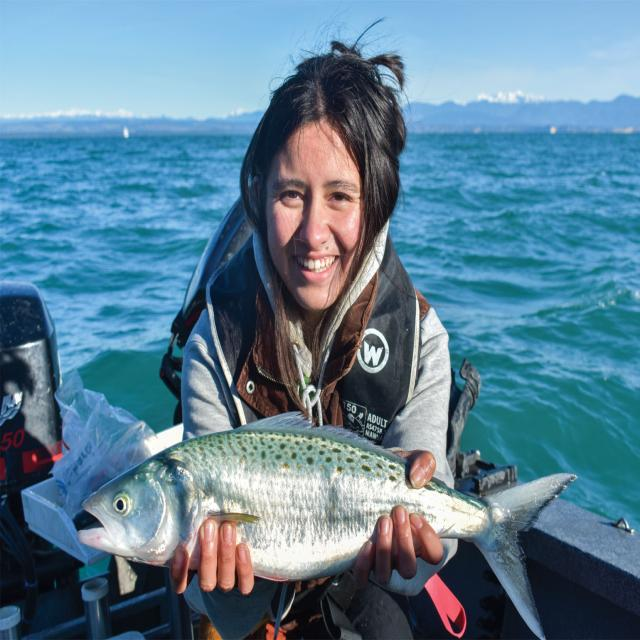Australian Salmon: (74, 402, 581, 638)
